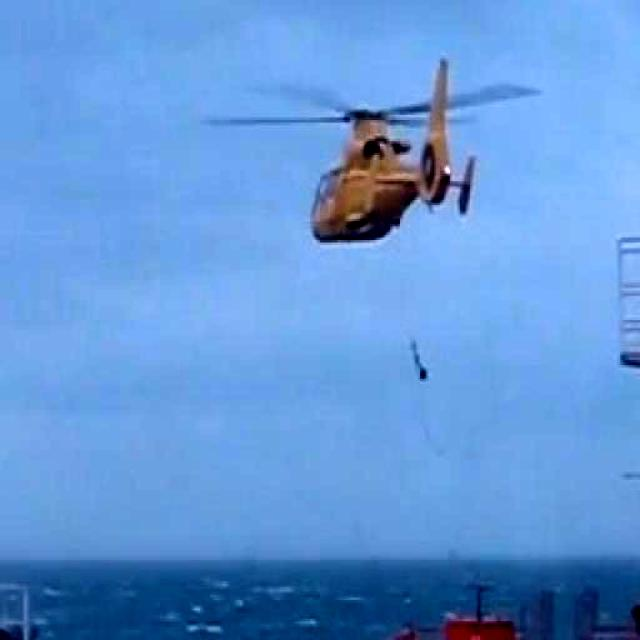drone: (290, 71, 486, 265)
